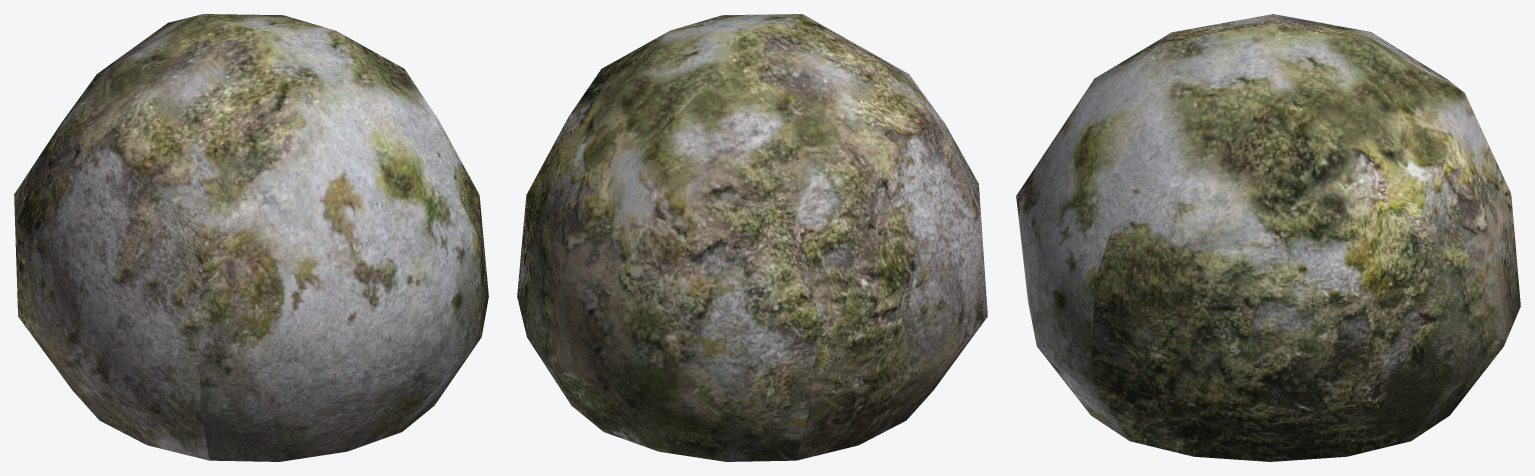
File: rock13.glb
3 views of the same model, side by side, from view 1: azimuth 30°, elevation 25°; view 2: azimuth 150°, elevation 25°; view 3: azimuth 270°, elevation 25° (orthographic). The views are drawn at different scales.
Visible parts, largest first — view 1: rock16; view 2: rock16; view 3: rock16.
Boxes of the visible parts, x1,y1,x2,y2 form: rock16: (14, 14, 488, 461); rock16: (517, 14, 987, 461); rock16: (1016, 14, 1520, 461).
Size of the model in its own units: 0.9515 by 0.7967 by 1.01.
1 material, 1 textured.
